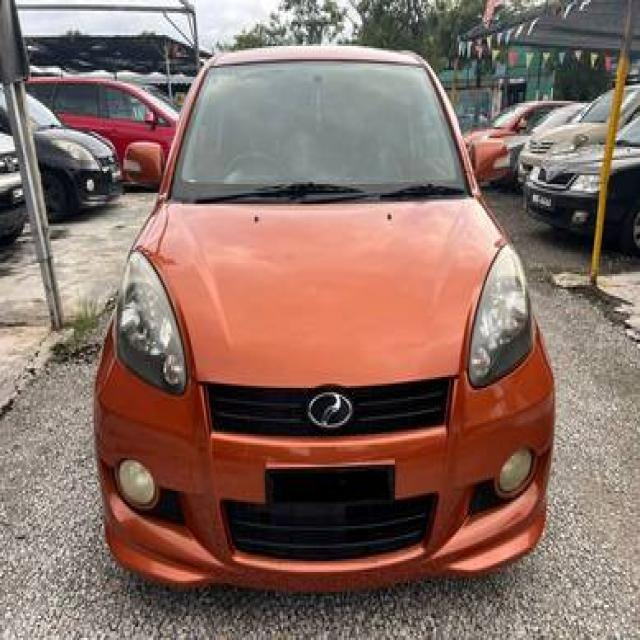PeroduaMyvi: (91, 42, 556, 594)
